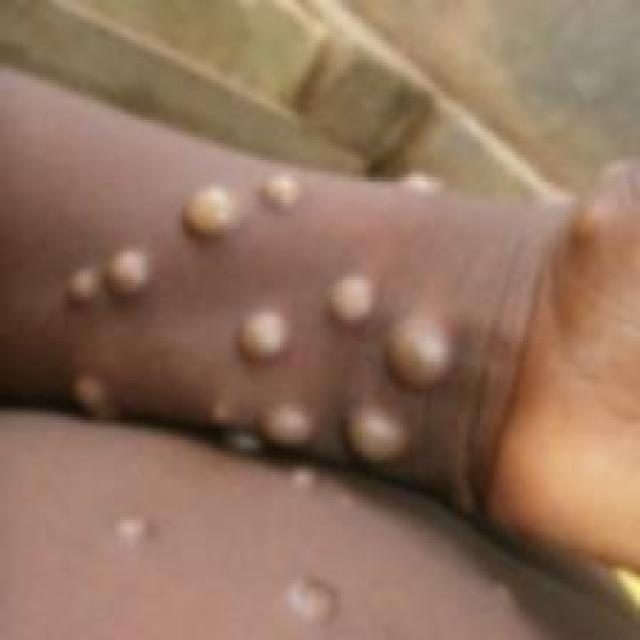monkeypox: (26, 129, 543, 640)
